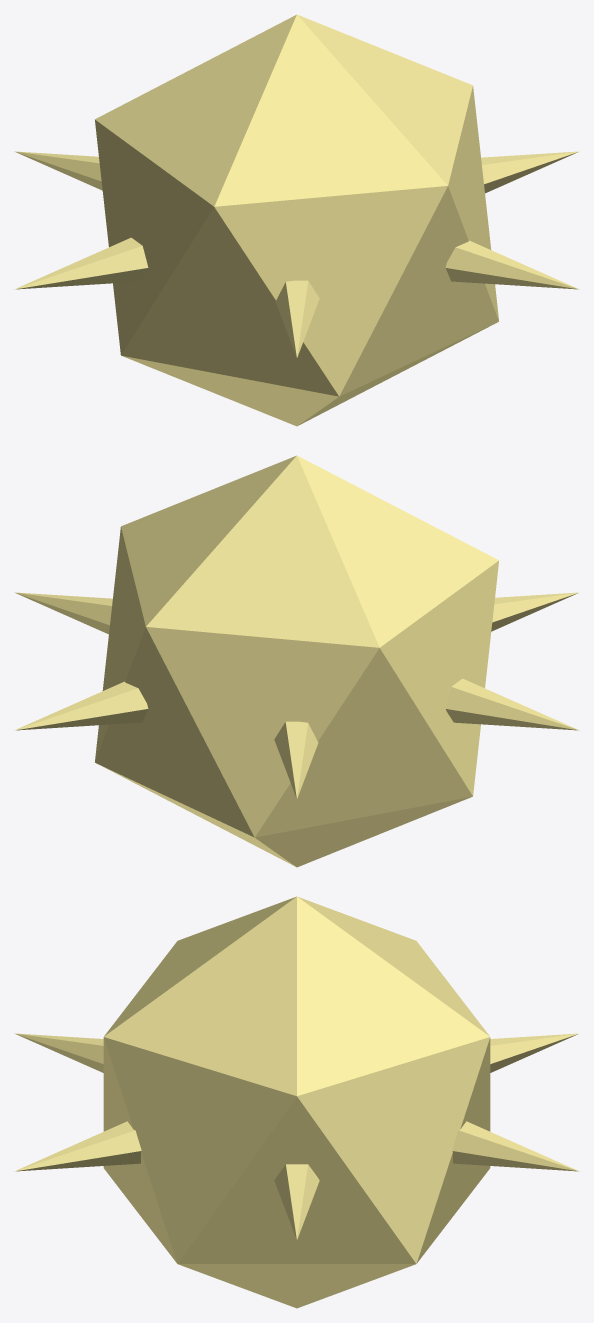
The model's file is bot_fleer.glb.
3 renders of one model, top to bottom at view 1: azimuth 30°, elevation 25°; view 2: azimuth 150°, elevation 25°; view 3: azimuth 270°, elevation 25°, orthographic.
Parts seen in each view (by area): view 1: BotFleer_Full; view 2: BotFleer_Full; view 3: BotFleer_Full.
Part boxes in pixels (<box>): BotFleer_Full: <box>14,14,579,426</box>; BotFleer_Full: <box>14,455,579,867</box>; BotFleer_Full: <box>14,896,579,1308</box>.
Size of the model in its own units: 2.3 by 1.6 by 1.99.
